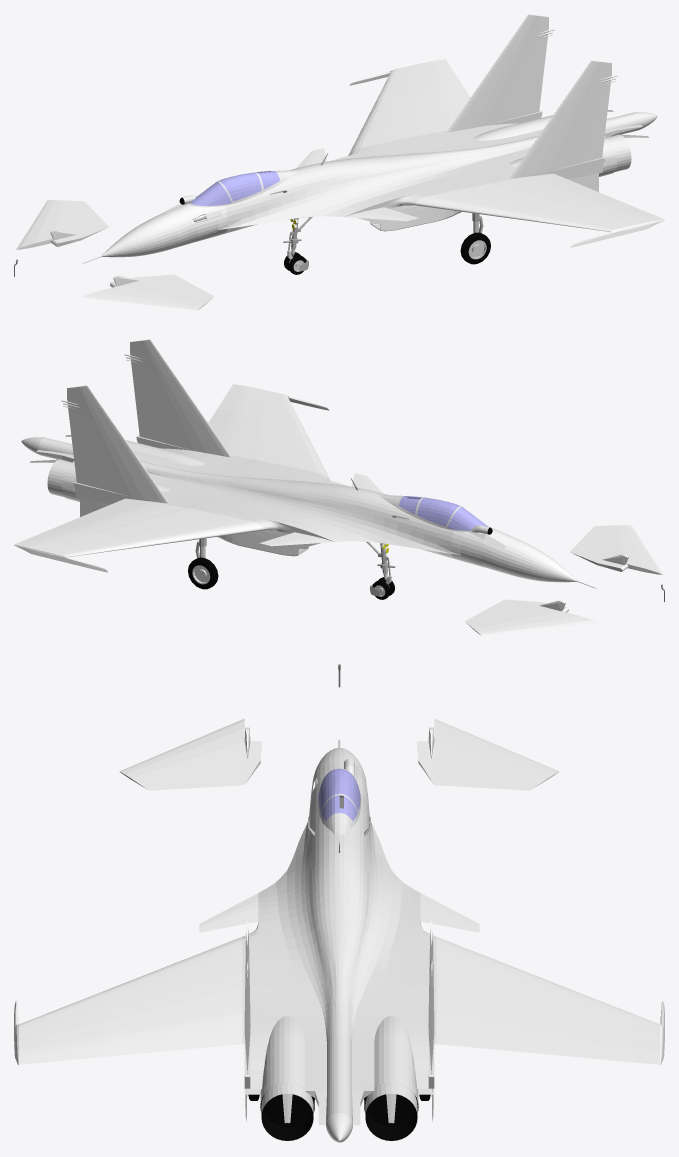
File: sukhoi_su35s_flanker_e.glb
The picture shows the model from 3 angles, top to bottom: view 1: azimuth 30°, elevation 25°; view 2: azimuth 150°, elevation 25°; view 3: azimuth 270°, elevation 25°; orthographic projection. The views are drawn at different scales.
Parts seen in each view (by area): view 1: HULL_Hull_Upper, WNG_Left, WNG_Right, TF_Left_TailFin, TF_Right_TailFin, HULL_Hull_Nose, ELV_Elevon_Left, ELV_Elevon_Right, WNG_Left_Slat, ENG_Left_Outer, TF_Right_Rudder, TF_Left_Rudder (+10 smaller); view 2: HULL_Hull_Upper, WNG_Right, WNG_Left, TF_Right_TailFin, TF_Left_TailFin, HULL_Hull_Nose, ELV_Elevon_Right, ELV_Elevon_Left, WNG_Right_Slat, ENG_Right_Outer, TF_Left_Rudder, TF_Right_Rudder (+10 smaller); view 3: HULL_Hull_Upper, WNG_Left, WNG_Right, ELV_Elevon_Left, ELV_Elevon_Right, ENG_Upper_Nacelles, WNG_Left_Flaperon, WNG_Right_Flaperon, HULL_Speedbrake_Outer, GLS_Canopy_Rear, WNG_Right_Slat, WNG_Left_Slat (+9 smaller).
Part boxes in pixels (<box>): HULL_Hull_Upper: <box>225,110,657,228</box>; WNG_Left: <box>433,178,664,247</box>; WNG_Right: <box>349,59,461,146</box>; TF_Left_TailFin: <box>510,60,617,178</box>; TF_Right_TailFin: <box>447,14,554,132</box>; HULL_Hull_Nose: <box>82,203,228,263</box>; ELV_Elevon_Left: <box>81,274,214,310</box>; ELV_Elevon_Right: <box>16,200,108,249</box>; WNG_Left_Slat: <box>415,195,594,228</box>; ENG_Left_Outer: <box>358,162,616,231</box>; TF_Right_Rudder: <box>519,41,547,116</box>; TF_Left_Rudder: <box>582,87,610,162</box>; HULL_Hull_Upper: <box>21,435,453,553</box>; WNG_Right: <box>14,503,245,572</box>; WNG_Left: <box>217,384,329,471</box>; TF_Right_TailFin: <box>61,385,168,503</box>; TF_Left_TailFin: <box>124,339,231,457</box>; HULL_Hull_Nose: <box>450,527,596,588</box>; ELV_Elevon_Right: <box>464,599,597,635</box>; ELV_Elevon_Left: <box>570,525,662,574</box>; WNG_Right_Slat: <box>84,520,263,553</box>; ENG_Right_Outer: <box>62,487,320,556</box>; TF_Left_Rudder: <box>131,366,159,441</box>; TF_Right_Rudder: <box>68,412,96,487</box>; HULL_Hull_Upper: <box>242,793,436,1142</box>; WNG_Left: <box>14,945,242,1064</box>; WNG_Right: <box>436,945,664,1064</box>; ELV_Elevon_Left: <box>119,718,262,790</box>; ELV_Elevon_Right: <box>416,718,559,790</box>; ENG_Upper_Nacelles: <box>260,1016,418,1106</box>; WNG_Left_Flaperon: <box>102,1013,242,1056</box>; WNG_Right_Flaperon: <box>436,1013,576,1056</box>; HULL_Speedbrake_Outer: <box>319,870,359,949</box>; GLS_Canopy_Rear: <box>318,768,360,820</box>; WNG_Right_Slat: <box>436,937,632,1018</box>; WNG_Left_Slat: <box>46,937,242,1018</box>.
Bounding box in the file's own units: 24.06 × 6.31 × 14.41.
